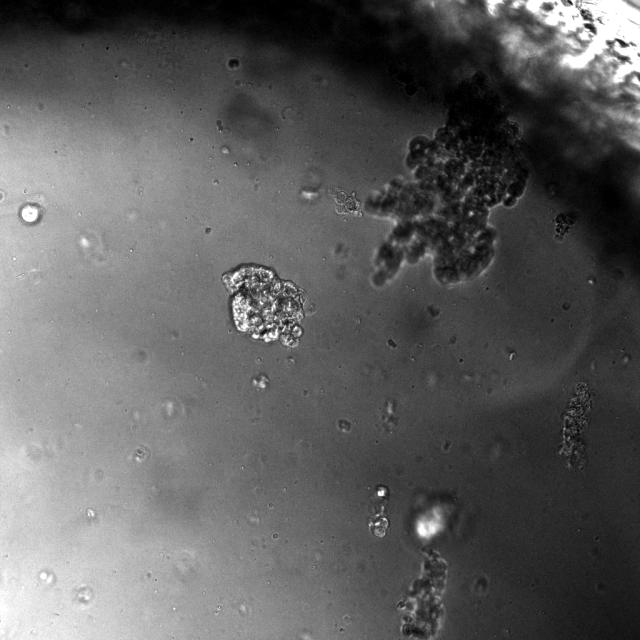organoid: (365, 74, 528, 287), (221, 264, 306, 348), (396, 546, 448, 639), (559, 381, 592, 470), (369, 484, 389, 537), (334, 190, 361, 215), (554, 211, 576, 240), (18, 202, 44, 225)
